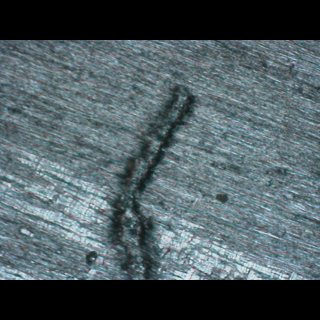d: (84, 83, 201, 279)
